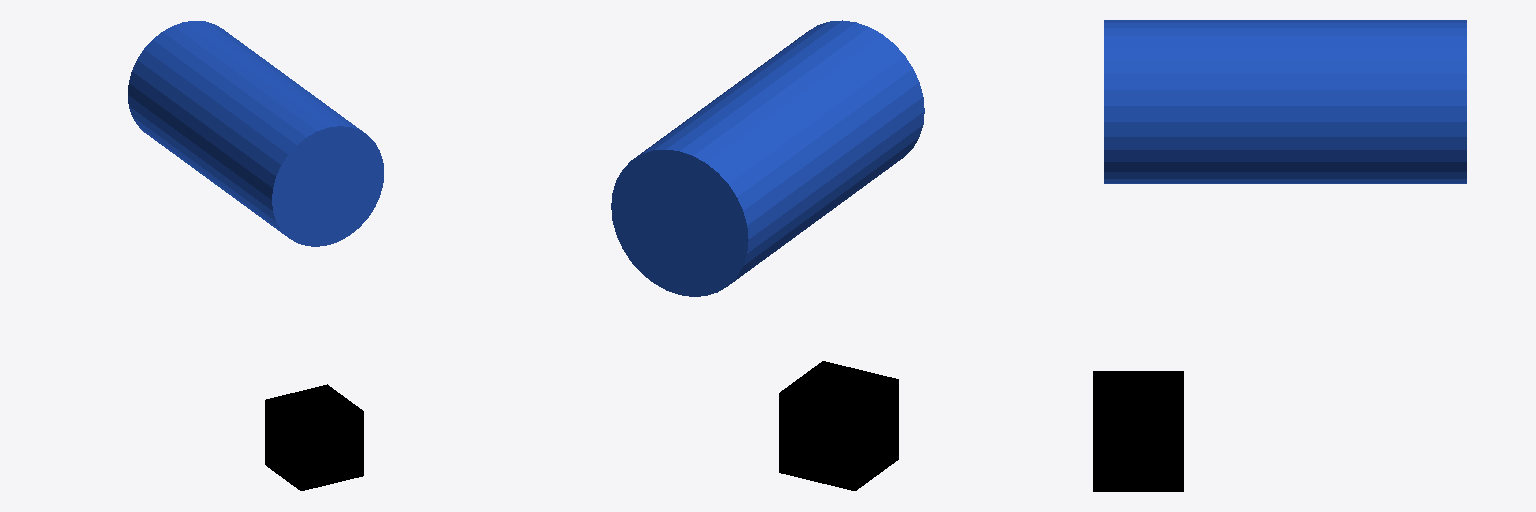
URDF robot description (ur5_robotiq_85):
<?xml version="1.0" ?>
<!-- =================================================================================== -->
<!-- |    This document was autogenerated by xacro from sisbot.xacro                   | -->
<!-- |    EDITING THIS FILE BY HAND IS NOT RECOMMENDED                                 | -->
<!-- =================================================================================== -->


<robot name="ur5_robotiq_85" xmlns:xacro="http://ros.org/wiki/xacro">
  <!--################################################
  ########              arm                    #######
  ####################################################-->

  <link name="base_link">
    <visual>
      <geometry>
        <mesh filename="../meshes/ur5/visual/base.obj"/>
      </geometry>
      <material name="LightGrey">
        <color rgba="0.7 0.7 0.7 1.0"/>
      </material>
    </visual>
    <collision>
      <geometry>
        <mesh filename="../meshes/ur5/collision/base.stl"/>
      </geometry>
    </collision>
    <inertial>
      <mass value="4.0"/>
      <origin rpy="0 0 0" xyz="0.0 0.0 0.0"/>
      <inertia ixx="0.00443333156" ixy="0.0" ixz="0.0" iyy="0.00443333156" iyz="0.0" izz="0.0072"/>
    </inertial>
  </link>

  <joint name="shoulder_pan_joint" type="revolute">
    <parent link="base_link"/>
    <child link="shoulder_link"/>
    <origin rpy="0.0 0.0 0.0" xyz="0.0 0.0 0.089159"/>
    <axis xyz="0 0 1"/>
    <limit effort="150.0" lower="-3.14159265359" upper="3.14159265359" velocity="3.15"/>
    <dynamics damping="0.0" friction="0.0"/>
  </joint>
  <link name="shoulder_link">
    <visual>
      <geometry>
        <mesh filename="../meshes/ur5/visual/shoulder.obj"/>
      </geometry>
      <material name="UR-Blue">
        <color rgba="0.376 0.576 0.674 1.0"/>
      </material>
    </visual>
    <collision>
      <geometry>
        <mesh filename="../meshes/ur5/collision/shoulder.stl"/>
      </geometry>
    </collision>
    <inertial>
      <mass value="3.7"/>
      <origin rpy="0 0 0" xyz="0.0 0.0 0.0"/>
      <inertia ixx="0.010267495893" ixy="0.0" ixz="0.0" iyy="0.010267495893" iyz="0.0" izz="0.00666"/>
    </inertial>
  </link>
  <joint name="shoulder_lift_joint" type="revolute">
    <parent link="shoulder_link"/>
    <child link="upper_arm_link"/>
    <origin rpy="0.0 1.57079632679 0.0" xyz="0.0 0.13585 0.0"/>
    <axis xyz="0 1 0"/>
    <limit effort="150.0" lower="-3.14159265359" upper="3.14159265359" velocity="3.15"/>
    <dynamics damping="0.0" friction="0.0"/>
  </joint>
  <link name="upper_arm_link">
    <visual>
      <geometry>
        <mesh filename="../meshes/ur5/visual/upperarm.obj"/>
      </geometry>
      <material name="LightGrey">
        <color rgba="0.7 0.7 0.7 1.0"/>
      </material>
    </visual>
    <collision>
      <geometry>
        <mesh filename="../meshes/ur5/collision/upperarm.stl"/>
      </geometry>
    </collision>
    <inertial>
      <mass value="8.393"/>
      <origin rpy="0 0 0" xyz="0.0 0.0 0.28"/>
      <inertia ixx="0.22689067591" ixy="0.0" ixz="0.0" iyy="0.22689067591" iyz="0.0" izz="0.0151074"/>
    </inertial>
  </link>
  <joint name="elbow_joint" type="revolute">
    <parent link="upper_arm_link"/>
    <child link="forearm_link"/>
    <origin rpy="0.0 0.0 0.0" xyz="0.0 -0.1197 0.425"/>
    <axis xyz="0 1 0"/>
    <limit effort="150.0" lower="-3.14159265359" upper="3.14159265359" velocity="3.15"/>
    <dynamics damping="0.0" friction="0.0"/>
  </joint>
  <link name="forearm_link">
    <visual>
      <geometry>
        <mesh filename="../meshes/ur5/visual/forearm.obj"/>
      </geometry>
      <material name="LightGrey">
        <color rgba="0.7 0.7 0.7 1.0"/>
      </material>
    </visual>
    <collision>
      <geometry>
        <mesh filename="../meshes/ur5/collision/forearm.stl"/>
      </geometry>
    </collision>
    <inertial>
      <mass value="2.275"/>
      <origin rpy="0 0 0" xyz="0.0 0.0 0.25"/>
      <inertia ixx="0.049443313556" ixy="0.0" ixz="0.0" iyy="0.049443313556" iyz="0.0" izz="0.004095"/>
    </inertial>
  </link>
  <joint name="wrist_1_joint" type="revolute">
    <parent link="forearm_link"/>
    <child link="wrist_1_link"/>
    <origin rpy="0.0 1.57079632679 0.0" xyz="0.0 0.0 0.39225"/>
    <axis xyz="0 1 0"/>
    <limit effort="28.0" lower="-3.14159265359" upper="3.14159265359" velocity="3.2"/>
    <dynamics damping="0.0" friction="0.0"/>
  </joint>
  <link name="wrist_1_link">
    <visual>
      <geometry>
        <mesh filename="../meshes/ur5/visual/wrist1.obj"/>
      </geometry>
      <material name="UR-Blue">
        <color rgba="0.376 0.576 0.674 1.0"/>
      </material>
    </visual>
    <collision>
      <geometry>
        <mesh filename="../meshes/ur5/collision/wrist1.stl"/>
      </geometry>
    </collision>
    <inertial>
      <mass value="1.219"/>
      <origin rpy="0 0 0" xyz="0.0 0.0 0.0"/>
      <inertia ixx="0.111172755531" ixy="0.0" ixz="0.0" iyy="0.111172755531" iyz="0.0" izz="0.21942"/>
    </inertial>
  </link>
  <joint name="wrist_2_joint" type="revolute">
    <parent link="wrist_1_link"/>
    <child link="wrist_2_link"/>
    <origin rpy="0.0 0.0 0.0" xyz="0.0 0.093 0.0"/>
    <axis xyz="0 0 1"/>
    <limit effort="28.0" lower="-3.14159265359" upper="3.14159265359" velocity="3.2"/>
    <dynamics damping="0.0" friction="0.0"/>
  </joint>
  <link name="wrist_2_link">
    <visual>
      <geometry>
        <mesh filename="../meshes/ur5/visual/wrist2.obj"/>
      </geometry>
      <material name="DarkGray">
        <color rgba="0.5 0.5 0.5 1.0"/>
      </material>
    </visual>
    <collision>
      <geometry>
        <mesh filename="../meshes/ur5/collision/wrist2.stl"/>
      </geometry>
    </collision>
    <inertial>
      <mass value="1.219"/>
      <origin rpy="0 0 0" xyz="0.0 0.0 0.0"/>
      <inertia ixx="0.111172755531" ixy="0.0" ixz="0.0" iyy="0.111172755531" iyz="0.0" izz="0.21942"/>
    </inertial>
  </link>
  <joint name="wrist_3_joint" type="revolute">
    <parent link="wrist_2_link"/>
    <child link="wrist_3_link"/>
    <origin rpy="0.0 0.0 0.0" xyz="0.0 0.0 0.09465"/>
    <axis xyz="0 1 0"/>
    <limit effort="28.0" lower="-3.14159265359" upper="3.14159265359" velocity="3.2"/>
    <dynamics damping="0.0" friction="0.0"/>
  </joint>
  <link name="wrist_3_link">
    <visual>
      <geometry>
        <mesh filename="../meshes/ur5/visual/wrist3.obj"/>
      </geometry>
      <material name="LightGrey">
        <color rgba="0.7 0.7 0.7 1.0"/>
      </material>
    </visual>
    <collision>
      <geometry>
        <mesh filename="../meshes/ur5/collision/wrist3.stl"/>
      </geometry>
    </collision>
    <inertial>
      <mass value="0.1879"/>
      <origin rpy="0 0 0" xyz="0.0 0.0 0.0"/>
      <inertia ixx="0.0171364731454" ixy="0.0" ixz="0.0" iyy="0.0171364731454" iyz="0.0" izz="0.033822"/>
    </inertial>
  </link>
  <joint name="ee_fixed_joint" type="fixed">
    <parent link="wrist_3_link"/>
    <child link="ee_link"/>
    <origin rpy="0.0 0.0 1.57079632679" xyz="0.0 0.0823 0.0"/>
  </joint>
  <link name="ee_link">
    <collision>
      <geometry>
        <box size="0.01 0.01 0.01"/>
      </geometry>
      <origin rpy="0 0 0" xyz="-0.01 0 0"/>
    </collision>
  </link>
  <!-- cylinder link -->
  <link name="cylinder_link">
    <visual>
      <origin xyz="0 0 0" rpy="0 0 0"/>
      <geometry>
        <cylinder radius="0.018" length="0.08"/>
      </geometry>
      <material name="Blue">
        <color rgba="0.2 0.4 0.8 1.0"/>
      </material>
    </visual>
    <collision>
      <origin xyz="0 0 0" rpy="0 0 0"/>
      <geometry>
        <cylinder radius="0.018" length="0.08"/>
      </geometry>
    </collision>
    <inertial>
      <mass value="0.1"/>
      <origin xyz="0 0 0.1" rpy="0 0 0"/>
      <inertia ixx="0.0001" ixy="0" ixz="0" iyy="0.0001" iyz="0" izz="0.0001"/>
    </inertial>
  </link>
  <!-- camera -->
  <link name="camera_link">
    <visual>
      <origin xyz="0 0 0" rpy="0 0 0"/>
      <geometry>
        <box size="0.02 0.02 0.02"/>  
      </geometry>
      <material name="black">
        <color rgba="0 0 0 1"/>
      </material>
    </visual>
    <collision>
      <origin xyz="0 0 0" rpy="0 0 0"/>
      <geometry>
        <box size="0.02 0.02 0.02"/>
      </geometry>
    </collision>
    <inertial>
      <mass value="0.01"/>
      <origin xyz="0 0 0" rpy="0 0 0"/>
      <inertia ixx="1e-5" ixy="0" ixz="0" iyy="1e-5" iyz="0" izz="1e-5"/>
    </inertial>
  </link>





<!--  cylinder connect ee_link joint -->
<joint name="ee_cylinder_joint" type="fixed">
  <parent link="ee_link"/>
  <child link="cylinder_link"/>
  <origin rpy="0 -1.57079632679 0" xyz="0 0 0"/>
</joint>
<!-- camera connect wrist_3_link joint -->
<joint name="camera_joint" type="fixed">
  <parent link="wrist_3_link"/>
  <child link="camera_link"/>
  <origin xyz="0 0.05 0.08" rpy="1.57079632679 1.57079632679 0"/>
</joint>


</robot>

--- What the picture shows (computed from the rendered views, not written in the file) ---
Views: 3 orthographic renders of the robot side by side, from view 1: azimuth 30°, elevation 25°; view 2: azimuth 150°, elevation 25°; view 3: azimuth 270°, elevation 25°.
Robot: ur5_robotiq_85 — 10 links, 9 joints (6 revolute, 3 fixed); root link base_link; default pose: every joint at zero.
Visible links, largest first — view 1: cylinder_link, camera_link; view 2: cylinder_link, camera_link; view 3: cylinder_link, camera_link.
Link boxes in pixels (x1,y1,x2,y2): cylinder_link: (128, 21, 383, 246); camera_link: (265, 384, 363, 490); cylinder_link: (611, 20, 924, 296); camera_link: (779, 361, 898, 490); cylinder_link: (1104, 20, 1466, 183); camera_link: (1093, 371, 1183, 491).
Size in the robot's own frame: 0.036 by 0.0823 by 0.108 metres.
0 mesh visuals loaded from 7 distinct referenced files (none loaded); not drawn: 7 (reference not matched to a file when rendering).